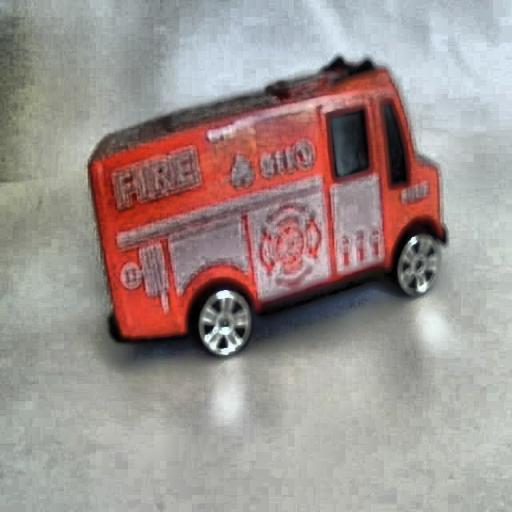fire_truck: (85, 56, 446, 356)
